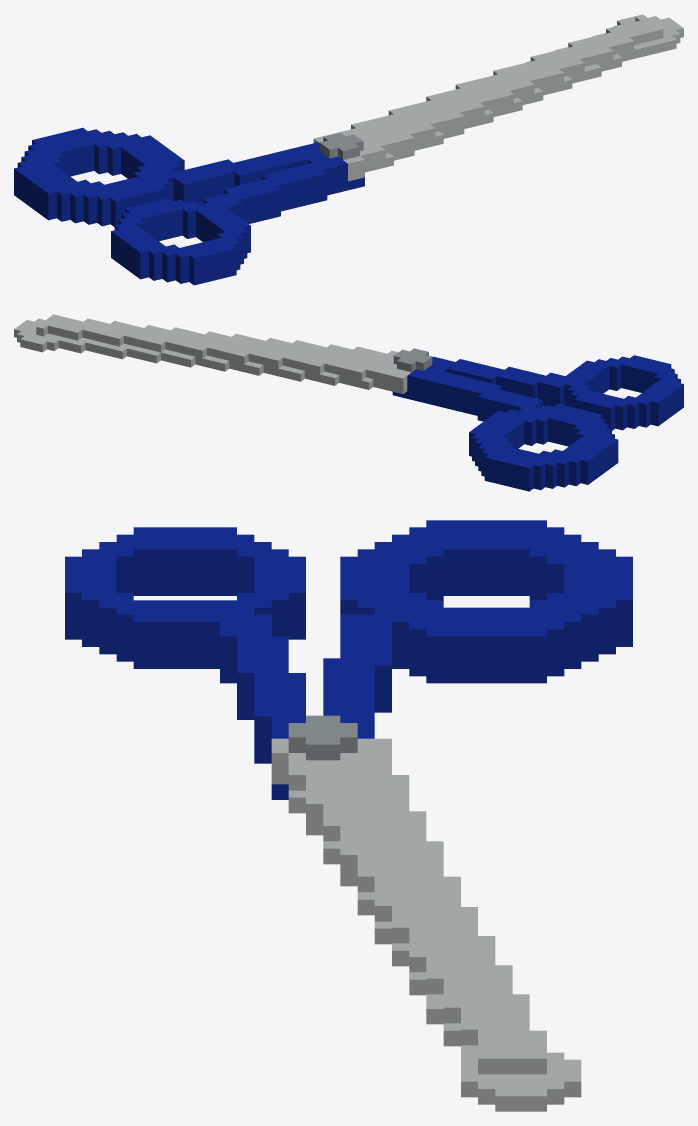
Rendered from scissors_medical.glb.
The picture shows the model from 3 angles, top to bottom: view 1: azimuth 30°, elevation 25°; view 2: azimuth 150°, elevation 25°; view 3: azimuth 270°, elevation 25°; orthographic projection. The views are drawn at different scales.
Visible parts, largest first — view 1: scissors_medical:compound; view 2: scissors_medical:compound; view 3: scissors_medical:compound.
Part boxes in pixels (left/top/right/bottom): scissors_medical:compound: left=14, top=14, right=683, bottom=285; scissors_medical:compound: left=14, top=314, right=683, bottom=491; scissors_medical:compound: left=65, top=520, right=632, bottom=1111.
Bounding box in the file's own units: 0.154 × 0.008 × 0.066.
